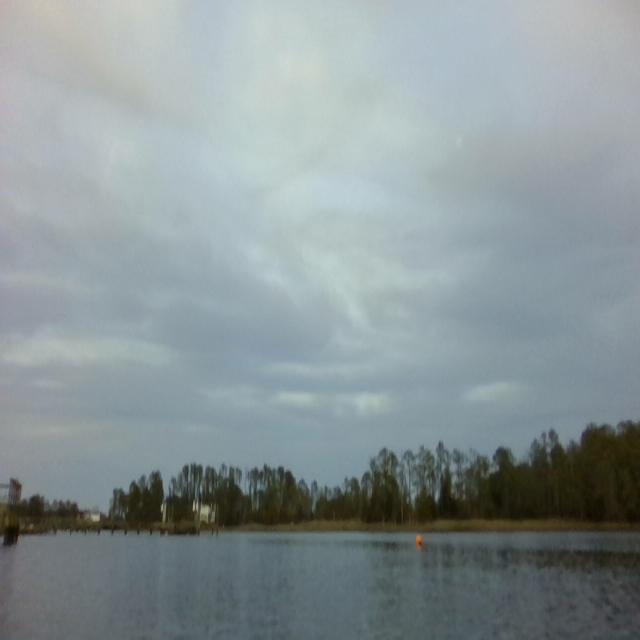Buoy: (414, 532, 424, 548)
